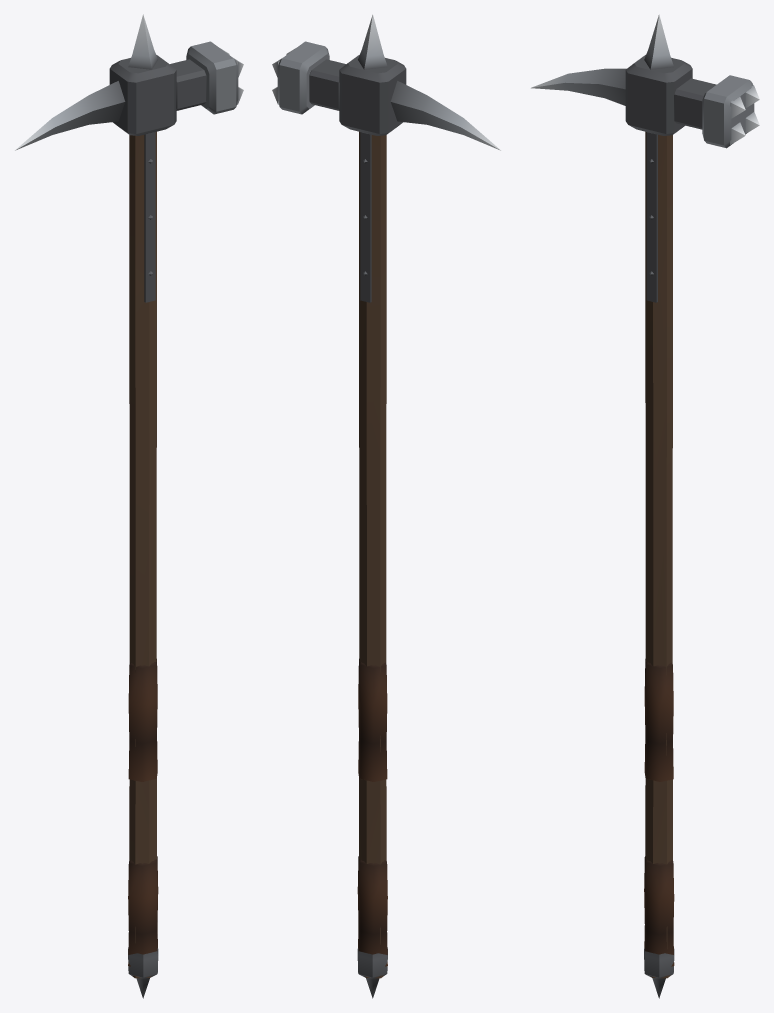
File: hammer_war.glb
3 renders of one model, left to right at view 1: azimuth 30°, elevation 25°; view 2: azimuth 150°, elevation 25°; view 3: azimuth 330°, elevation 25°, orthographic.
Visible parts, largest first — view 1: hammer_war; view 2: hammer_war; view 3: hammer_war.
Part boxes in pixels (x1,y1,x2,y2): hammer_war: [14, 14, 243, 998]; hammer_war: [272, 14, 501, 998]; hammer_war: [531, 14, 759, 998].
Size of the model in its own units: 0.3185 by 1.35 by 0.0702.
